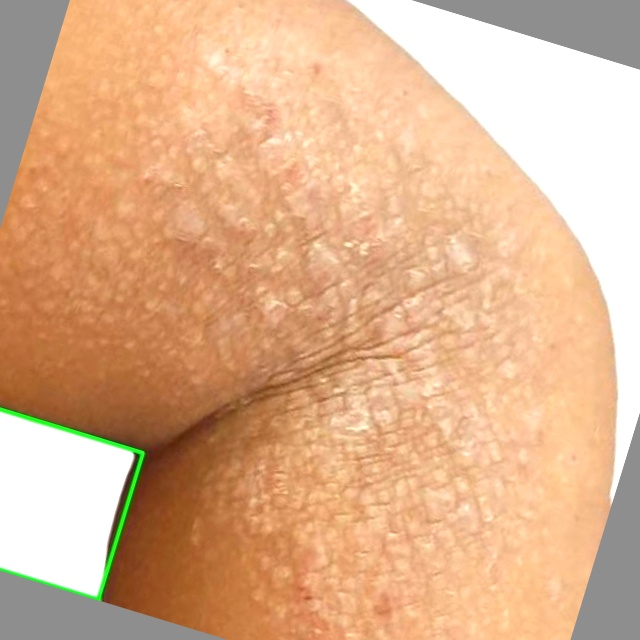Eczema: (0, 409, 143, 599)
